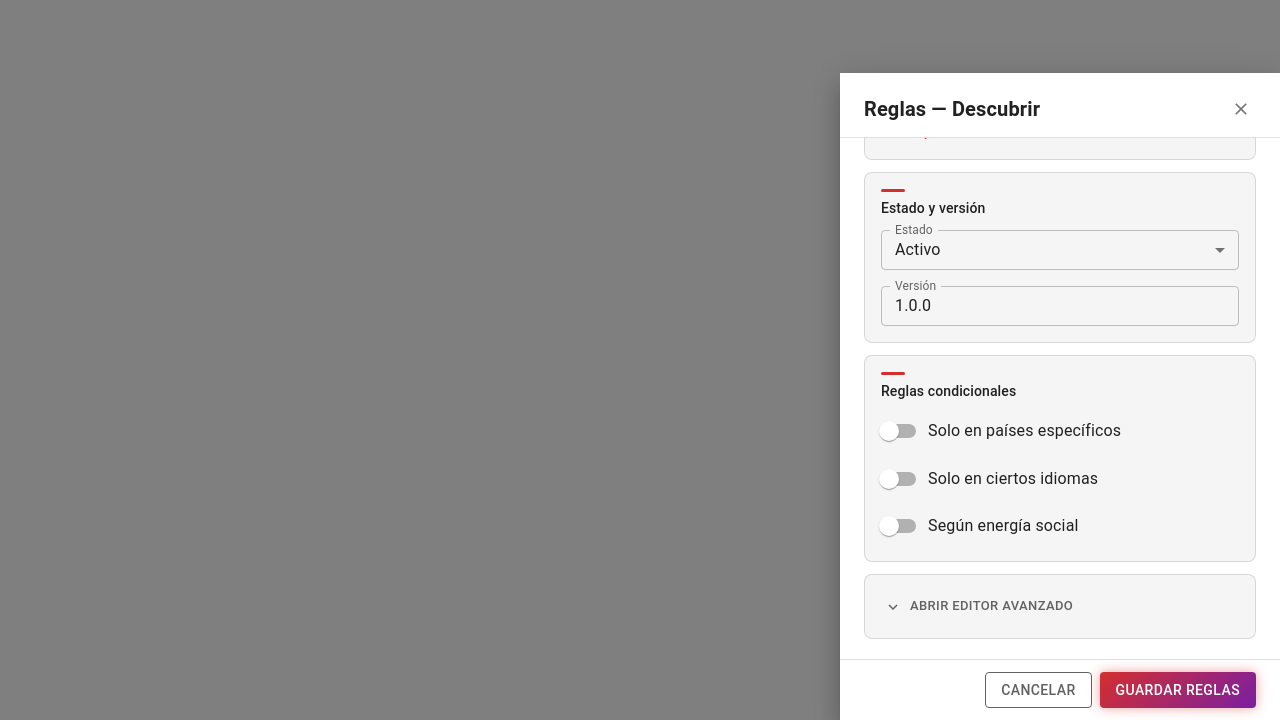
Scenario: RulesDrawer › hides the advanced JSON editor until requested
This screenshot has width=1280, height=720.
(page scrolled)
Check: the field labelled "Reglas (JSON)" is not shown
What coordinates should you click on to do the following:
click the button "Abrir editor avanzado"
I would click on:
 (980, 607)
Its box is [881,591,1078,622].
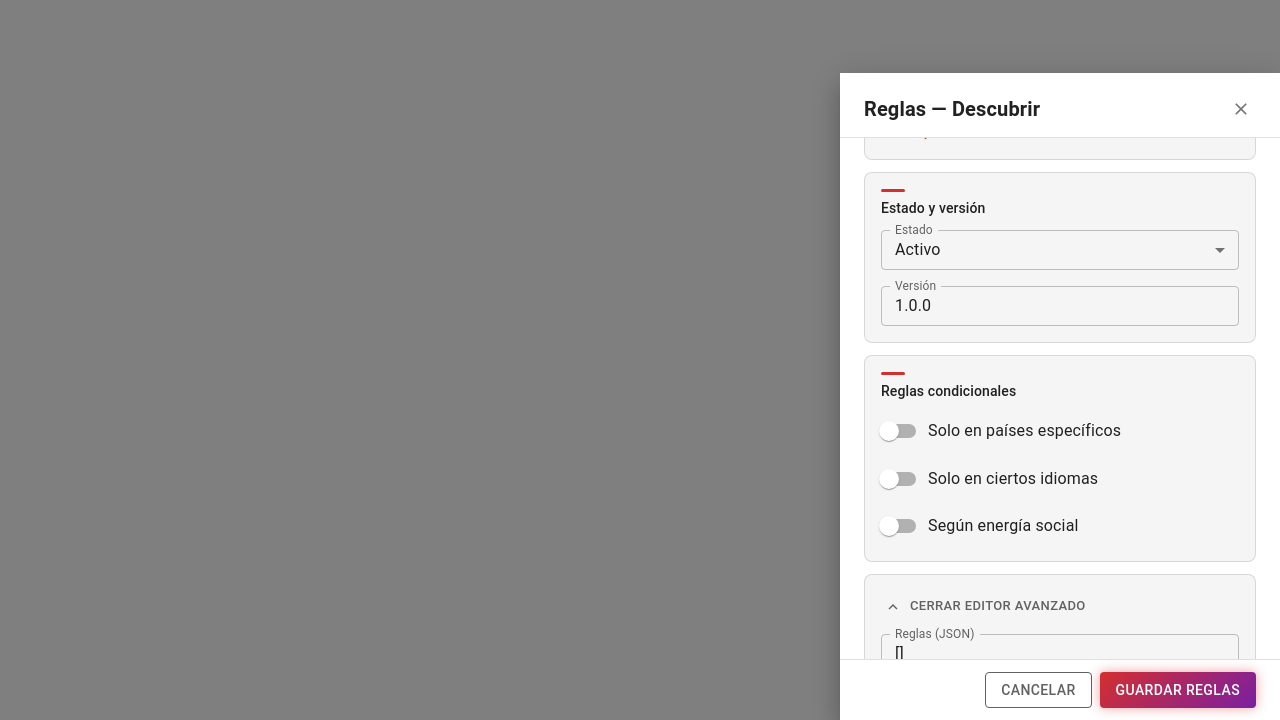
What coordinates should you click on to do the following:
click the button "Cerrar editor avanzado"
I would click on:
 (986, 607)
Its box is [881,591,1091,622].
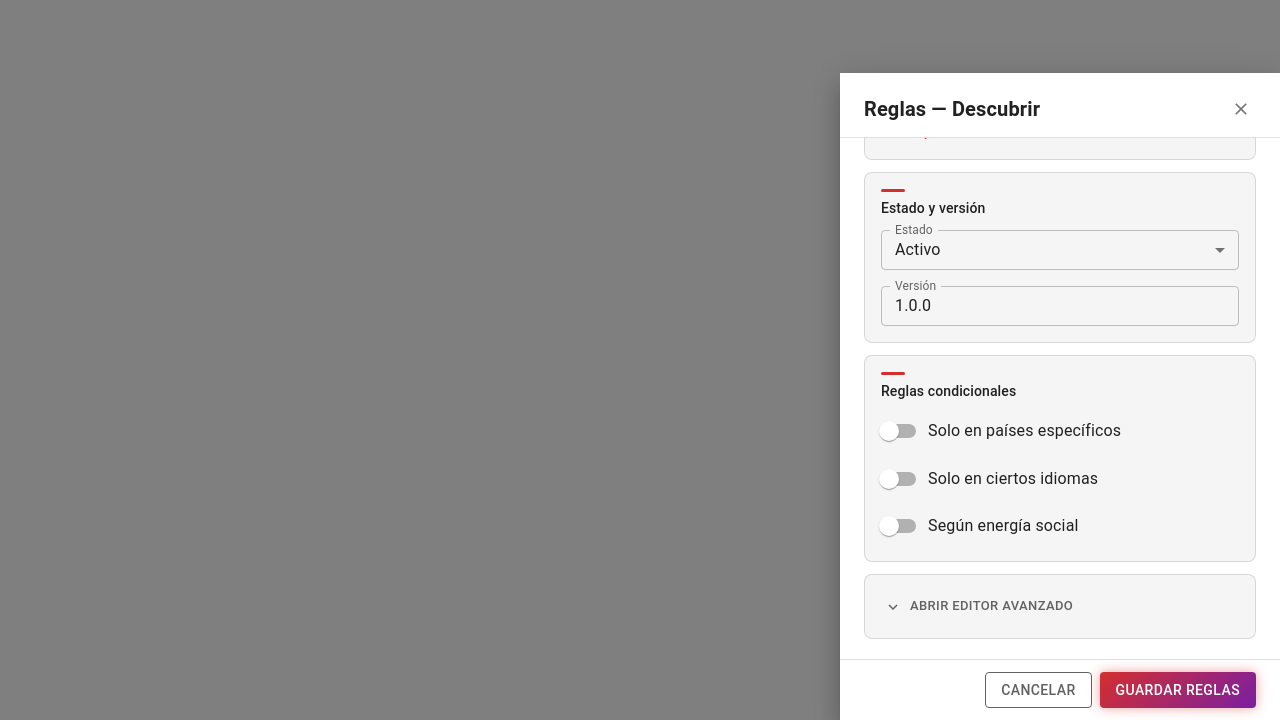
Check: the label labelled "Reglas (JSON)" is gone
